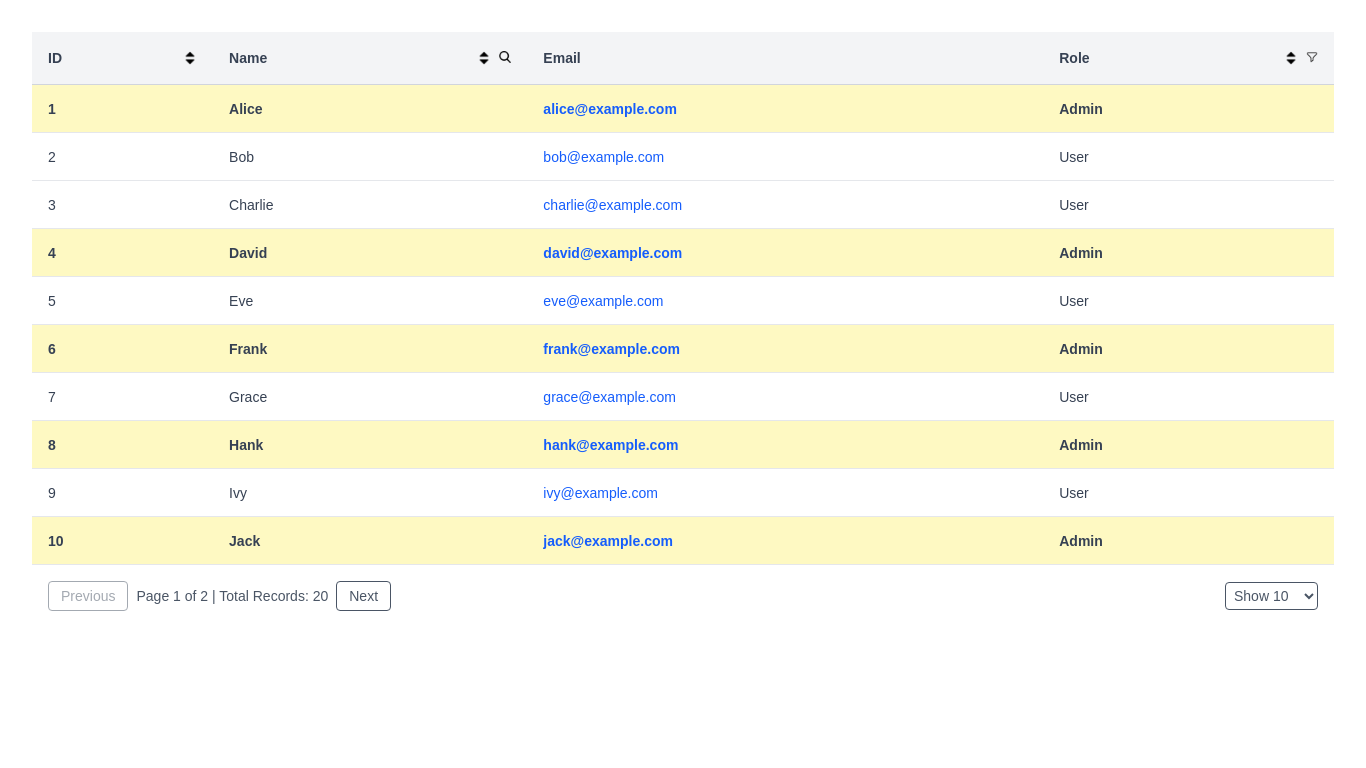
Test case: UsersStaticPage DataGrid tests › sorts by name descending
Click the button with test id "sort-button-name" at [484, 58], box [477,48,491,68]
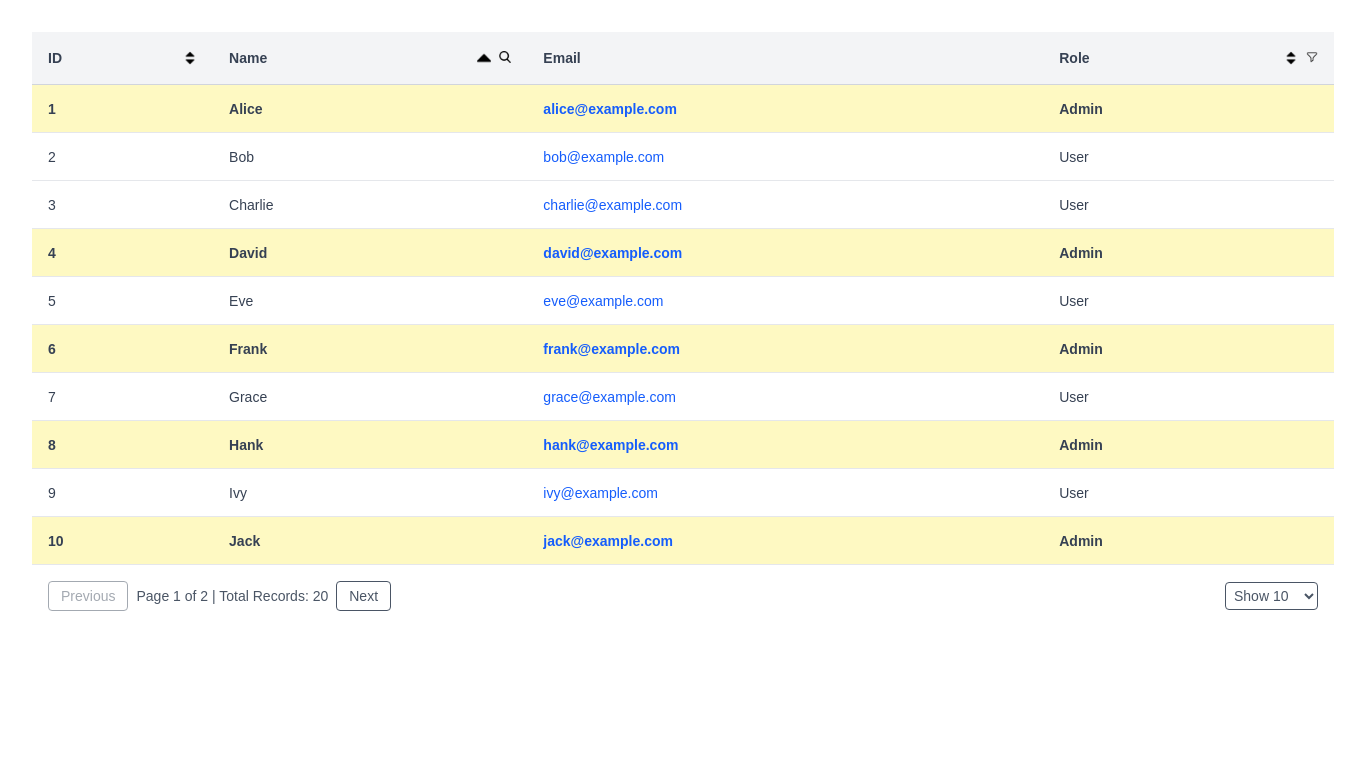
Click the button with test id "sort-button-name" at [484, 58], box [477,48,491,68]
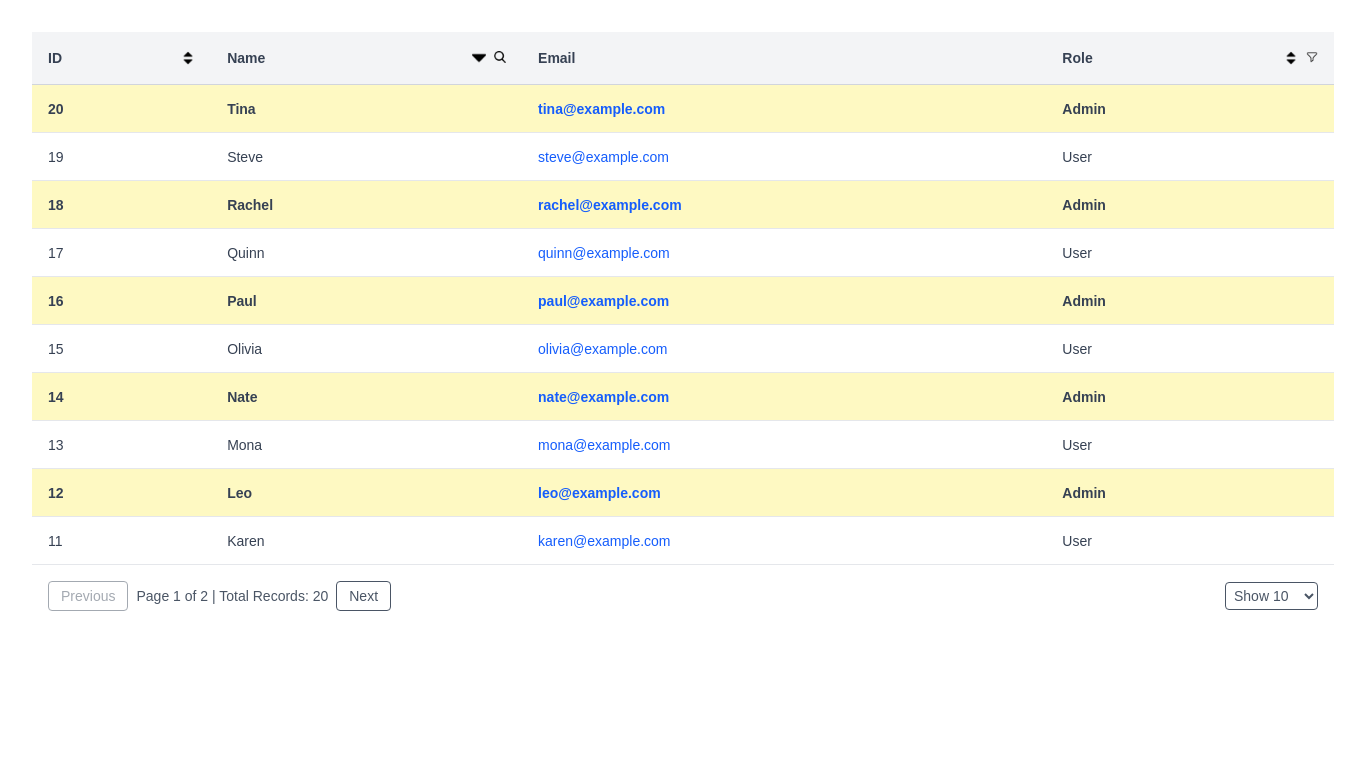
Result: the cell with test id "cell-0-name" reads "Tina" at [227,100,256,116]
